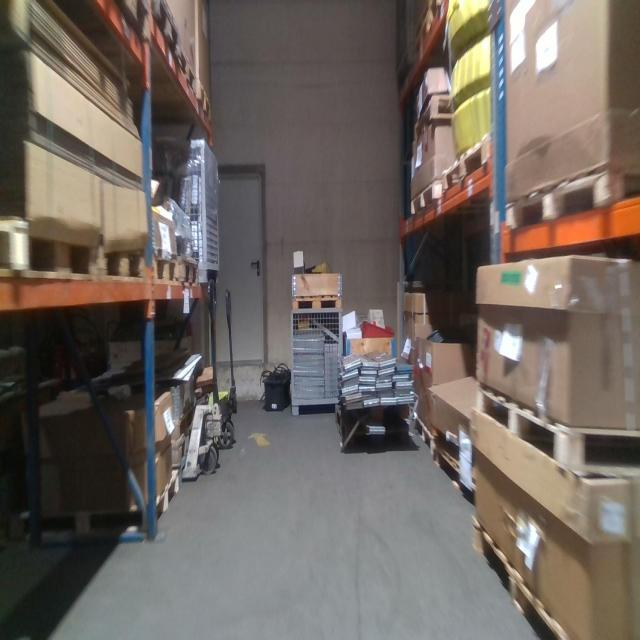pallet: (475, 393, 640, 472), (470, 512, 572, 637), (15, 465, 181, 537), (505, 167, 640, 236), (1, 216, 101, 282), (442, 126, 495, 198), (97, 229, 147, 288), (430, 425, 483, 473), (412, 93, 456, 144), (434, 448, 476, 501), (147, 0, 182, 62), (149, 244, 179, 291), (165, 401, 198, 441), (410, 177, 443, 216), (176, 42, 198, 96), (169, 420, 195, 465), (116, 2, 147, 35), (413, 409, 432, 460), (290, 295, 342, 312), (196, 73, 212, 124), (181, 251, 200, 291)
pallet_truck: (156, 258, 225, 484), (218, 275, 242, 453)
small_load_carrier: (262, 365, 289, 409)
stillage: (147, 130, 222, 286), (287, 306, 346, 414)
